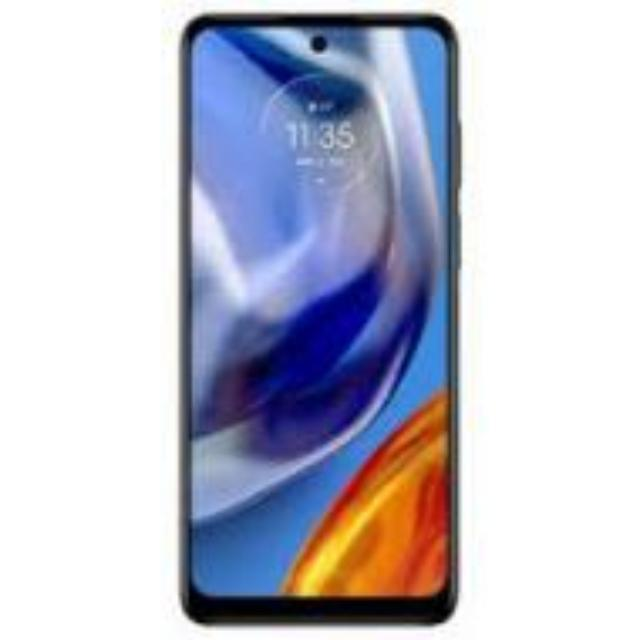Phone: (176, 6, 458, 628)
